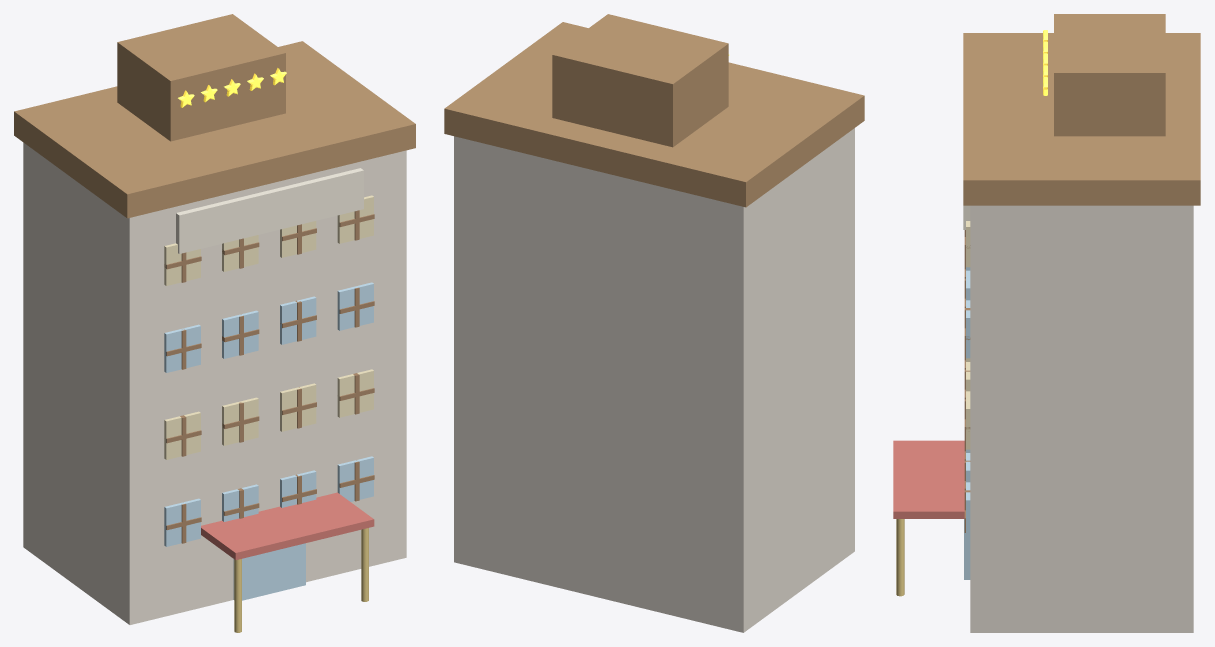
Rendered from hotel.glb.
3 views of the same model, side by side, from view 1: azimuth 30°, elevation 25°; view 2: azimuth 150°, elevation 25°; view 3: azimuth 270°, elevation 25° (orthographic). The views are drawn at different scales.
Visible parts, largest first — view 1: hotel; view 2: hotel; view 3: hotel.
Part boxes in pixels (x1,y1,x2,y2): hotel: (14, 14, 415, 632); hotel: (444, 14, 864, 632); hotel: (893, 14, 1200, 632).
Size of the model in its own units: 2.5 by 4.1 by 2.2.
